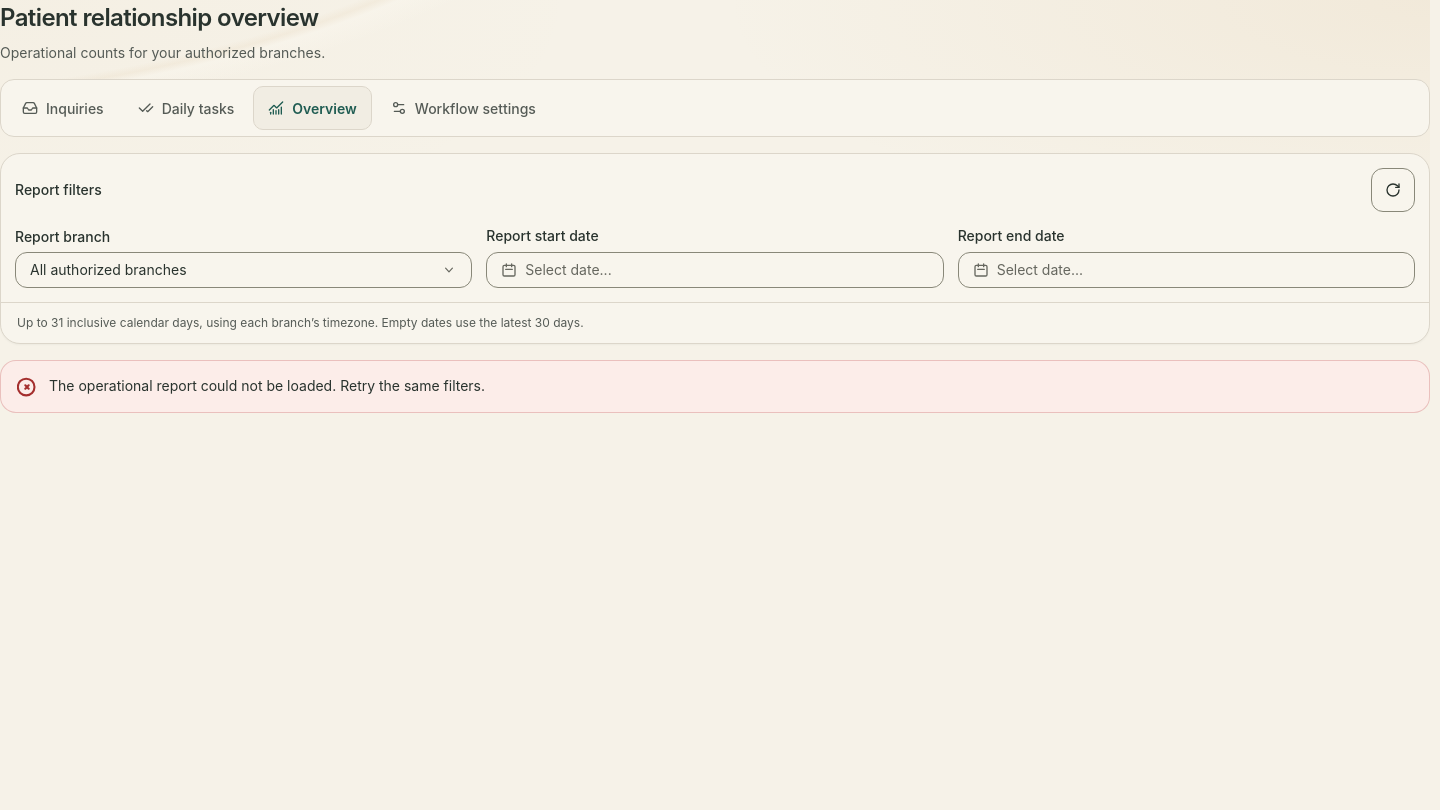
Scenario: CRM operational reports and settings › distinguishes a failed report from zero and reloads safely
The image size is (1440, 810).
Expected: the text "operational report could not be loaded" is shown, 49,377 -> 485,394
Expected: the text "No inquiries were captured during this period." is not shown
Click the button named "Reload report" at (1393, 190), box 1371,168 -> 1415,212
(page scrolled)
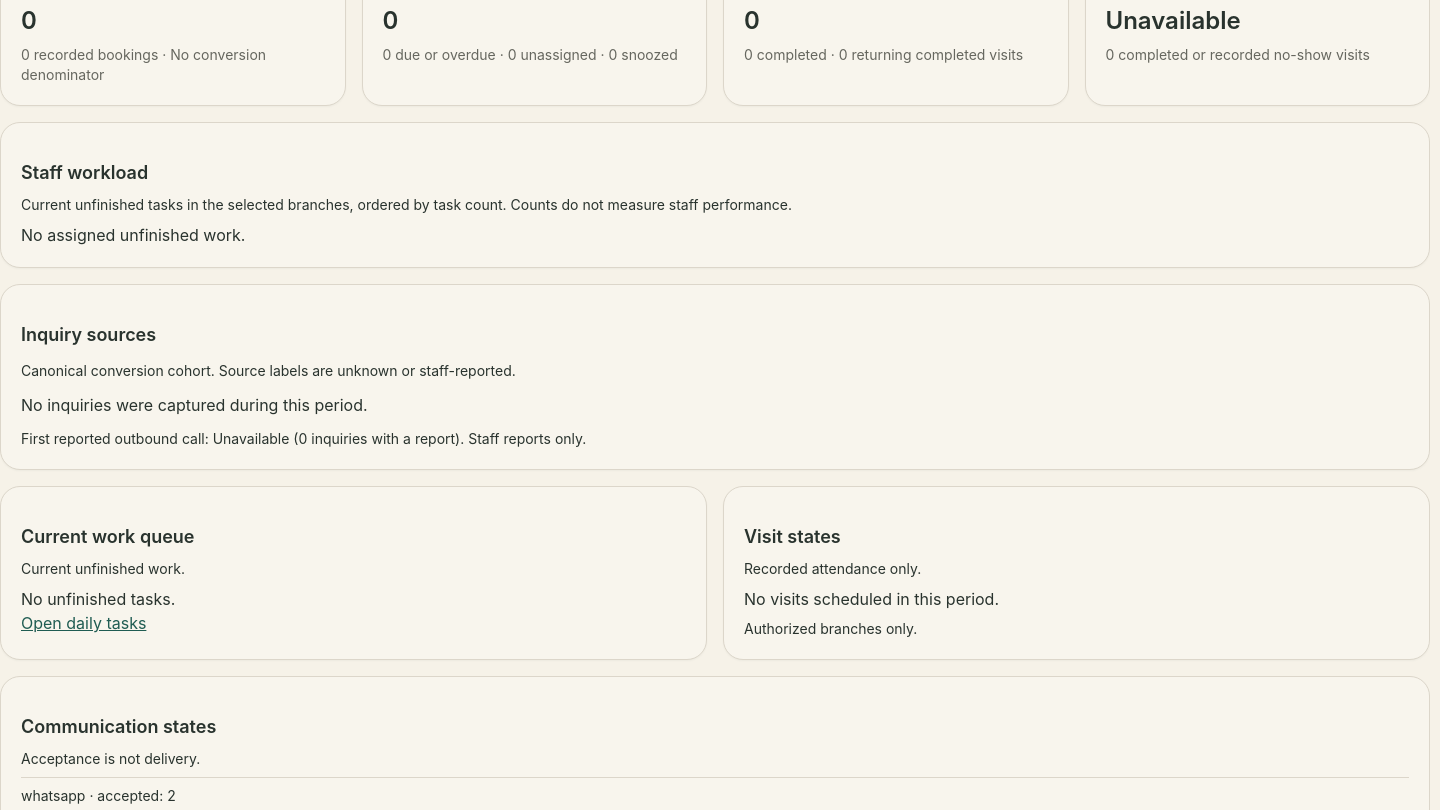
Expected: the text "No inquiries were captured during this period." is shown, 21,395 -> 368,415
